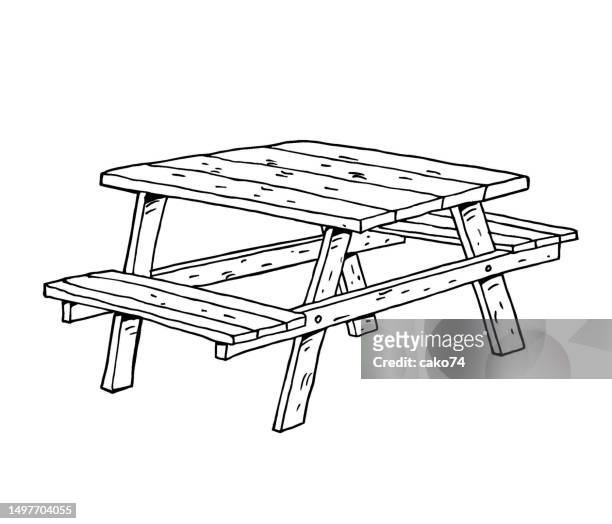obstacle: (44, 140, 576, 431)
